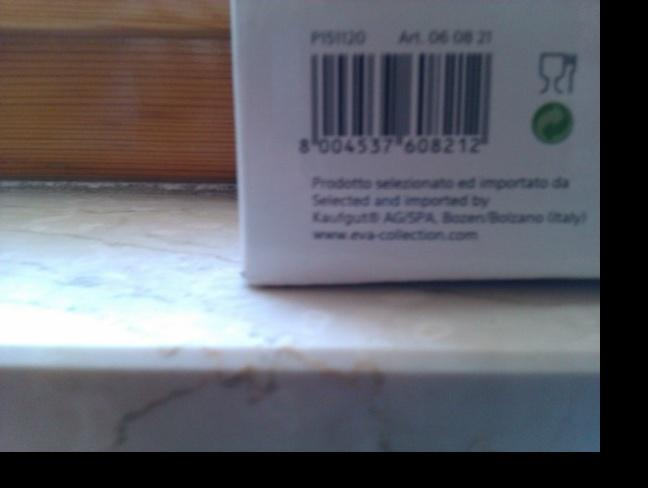Barcode: (287, 47, 505, 162)
